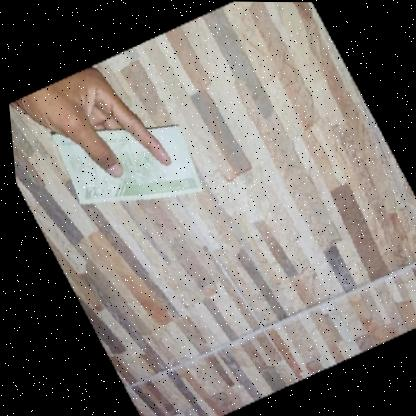fifty-back-vef: (46, 103, 202, 223)
